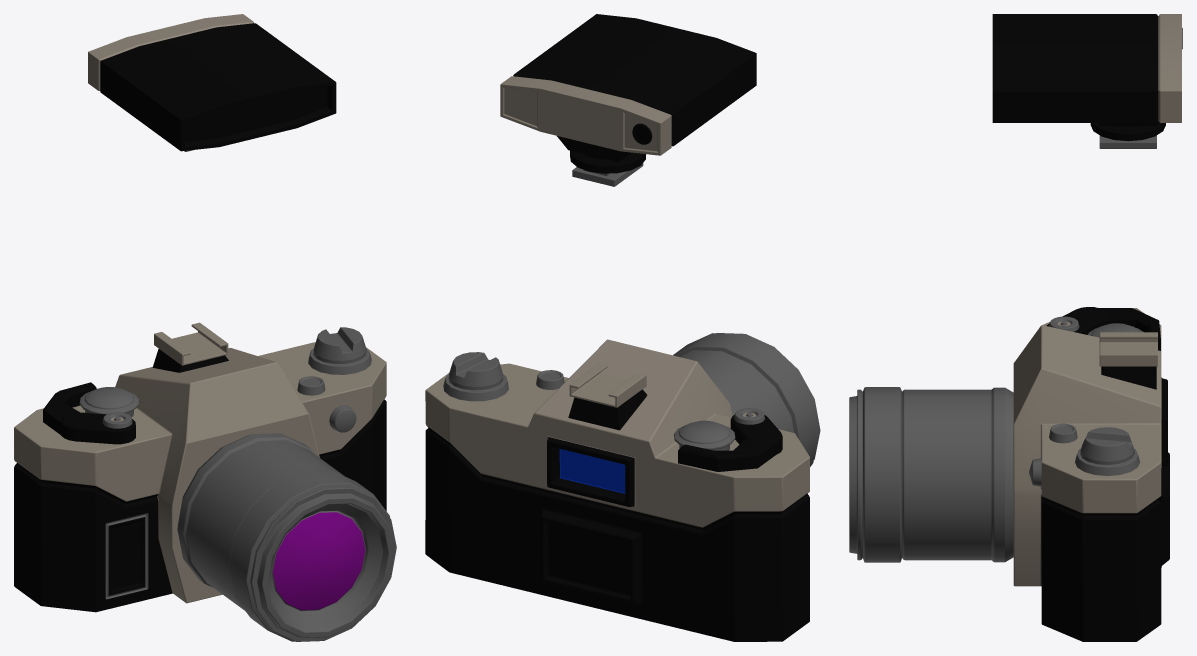
The model's file is Camera_HPB.fbx.
3 views of the same model, side by side, from view 1: azimuth 30°, elevation 25°; view 2: azimuth 150°, elevation 25°; view 3: azimuth 270°, elevation 25° (orthographic). The views are drawn at different scales.
Parts seen in each view (by area): view 1: Camera_HP, Flash_HP; view 2: Camera_HP, Flash_HP; view 3: Camera_HP, Flash_HP.
Boxes of the visible parts, bbox=[...] form: Camera_HP: bbox=[14, 322, 396, 641]; Flash_HP: bbox=[88, 14, 336, 151]; Camera_HP: bbox=[425, 333, 820, 641]; Flash_HP: bbox=[500, 14, 756, 186]; Camera_HP: bbox=[849, 307, 1169, 641]; Flash_HP: bbox=[992, 14, 1182, 148].
Size of the model in its own units: 10.77 by 14.87 by 8.82.
